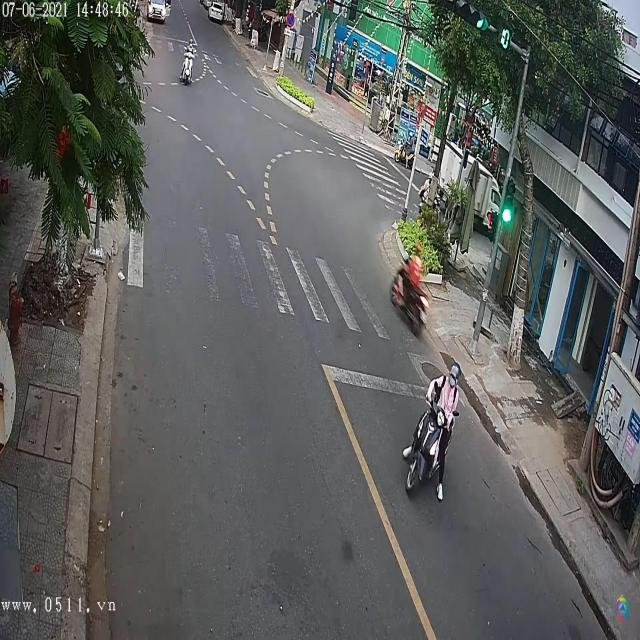car: (148, 2, 169, 24), (209, 4, 227, 23)
motorcycle: (404, 378, 460, 497), (180, 48, 197, 84)
